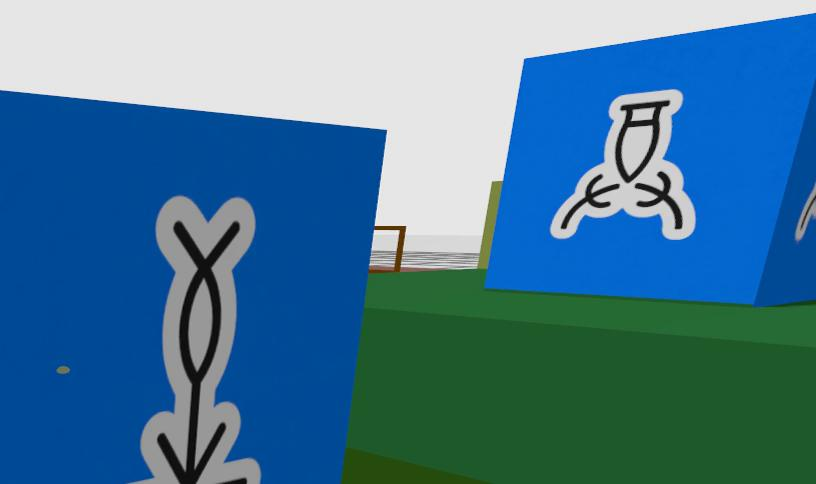KFS_REAL: (0, 92, 384, 484), (486, 14, 815, 305), (126, 196, 260, 484), (550, 90, 695, 240)
